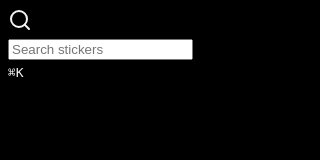
Test case: InsetFormSearch › is the compact search capsule with clear
Type "chil" into the search field labelled "Search stickers".
click(100, 50); type("chil")  # box 8,39 -> 193,60
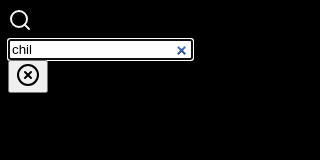
Click the button named "Clear search".
click(28, 76)  # box 8,60 -> 48,93
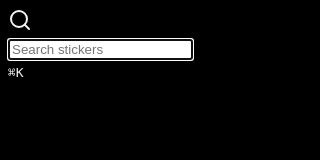
Expected: the search field labelled "Search stickers" is empty, 8,39 -> 193,60
